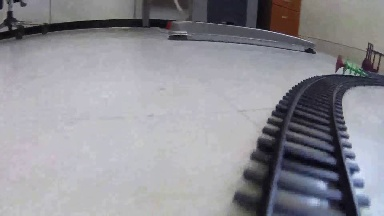tree: (333, 52, 369, 77)
